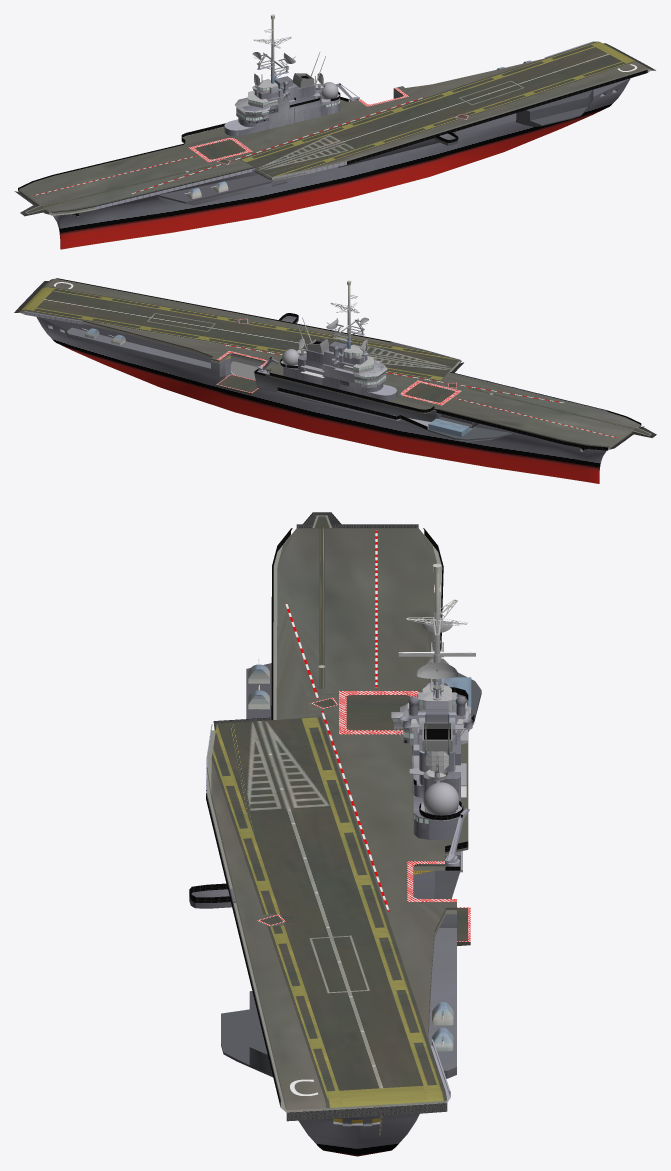
The model's file is foch.glb.
3 renders of one model, top to bottom at view 1: azimuth 30°, elevation 25°; view 2: azimuth 150°, elevation 25°; view 3: azimuth 270°, elevation 25°, orthographic. The views are drawn at different scales.
Parts seen in each view (by area): view 1: Coque.000, Pont1, Pont3, Pont2, Pont5, Pont4, object.009, object.008, ilot1, Coursive-BabordAR, ilot3, Coque (+4 smaller); view 2: Coque.000, Pont1, Pont3, Pont2, Pont5, box.039, box.007, ilot1, Pont4, Coque, ilot3, Coursive-TribordAV (+12 smaller); view 3: Pont1, Pont3, Pont2, Pont5, Pont4, Coque.000, box.007, object.008, Ascenseur1, ilot1, Pont2.000, Coursive-BabordAR.000 (+5 smaller).
Part boxes in pixels (left/top/right/bottom): Coque.000: left=29, top=79, right=629, bottom=249; Pont1: left=18, top=59, right=542, bottom=213; Pont3: left=246, top=45, right=632, bottom=179; Pont2: left=240, top=41, right=648, bottom=177; Pont5: left=294, top=62, right=649, bottom=173; Pont4: left=246, top=134, right=355, bottom=176; object.009: left=157, top=174, right=287, bottom=205; object.008: left=516, top=90, right=593, bottom=126; ilot1: left=224, top=89, right=325, bottom=136; Coursive-BabordAR: left=347, top=69, right=647, bottom=164; ilot3: left=254, top=76, right=315, bottom=103; Coque: left=455, top=78, right=630, bottom=136; Coque.000: left=36, top=317, right=630, bottom=483; Pont1: left=83, top=320, right=640, bottom=448; Pont3: left=24, top=289, right=460, bottom=376; Pont2: left=20, top=286, right=457, bottom=381; Pont5: left=43, top=278, right=421, bottom=350; box.039: left=254, top=370, right=441, bottom=422; box.007: left=66, top=327, right=225, bottom=377; ilot1: left=283, top=354, right=397, bottom=401; Pont4: left=360, top=344, right=458, bottom=377; Coque: left=41, top=317, right=210, bottom=362; ilot3: left=306, top=341, right=367, bottom=369; Coursive-TribordAV: left=434, top=409, right=607, bottom=450; Pont1: left=276, top=528, right=468, bottom=1038; Pont3: left=251, top=807, right=427, bottom=1109; Pont2: left=211, top=717, right=447, bottom=1112; Pont5: left=211, top=759, right=326, bottom=1110; Pont4: left=217, top=718, right=330, bottom=811; Coque.000: left=298, top=871, right=434, bottom=1156; box.007: left=428, top=914, right=456, bottom=1078; object.008: left=221, top=991, right=273, bottom=1077; Ascenseur1: left=346, top=695, right=410, bottom=730; ilot1: left=413, top=730, right=460, bottom=839; Pont2.000: left=286, top=1103, right=447, bottom=1121; Coursive-BabordAR.000: left=207, top=730, right=286, bottom=1111.
Size of the model in its own units: 277 by 68.59 by 56.6.
Materials: 59 (44 with a texture image).
